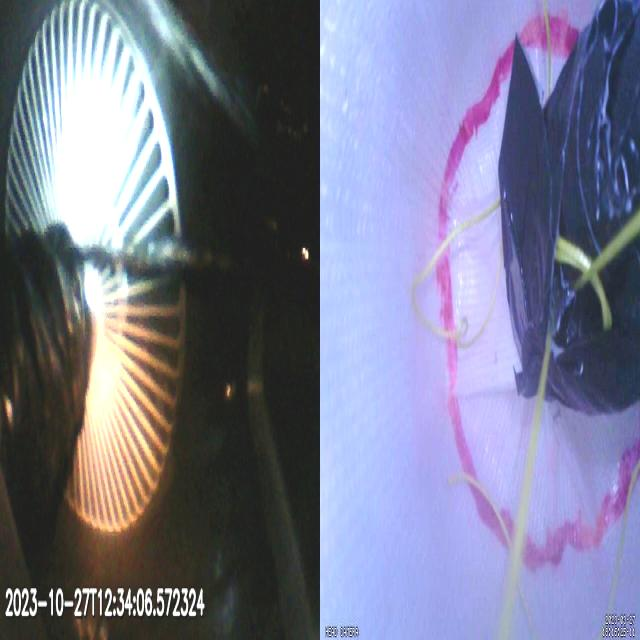red-circle: (437, 11, 640, 570)
